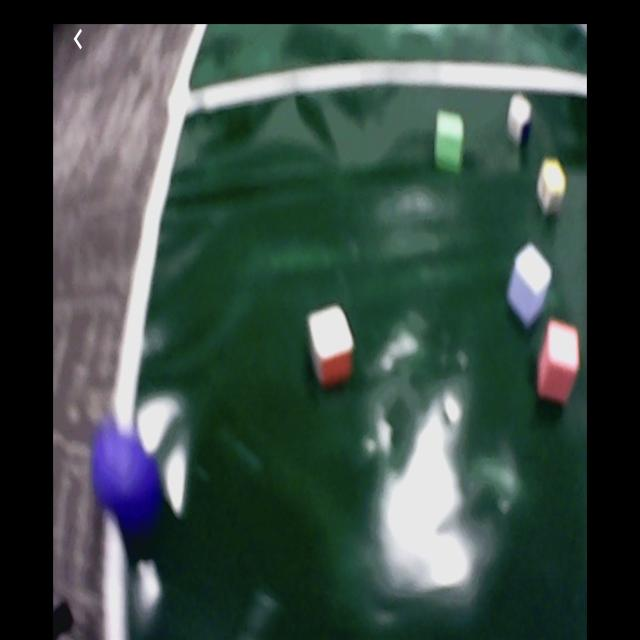ball: (92, 420, 160, 525)
